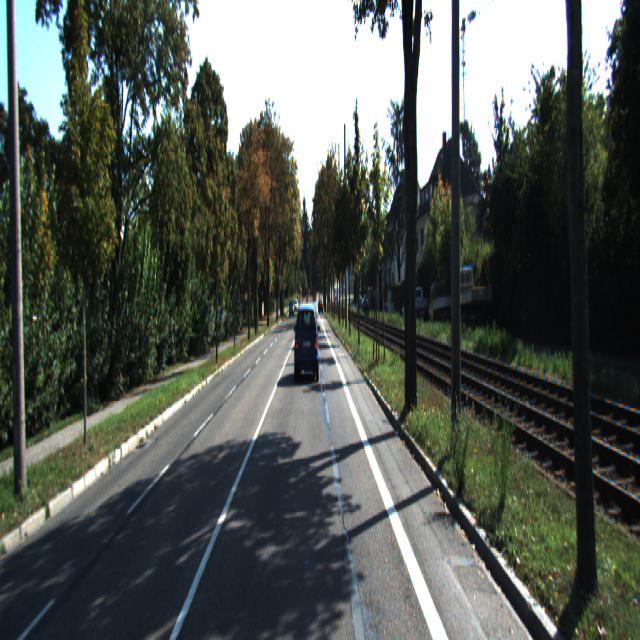Car: (453, 260, 493, 330), (294, 301, 320, 385), (428, 278, 453, 324), (410, 286, 428, 320)
